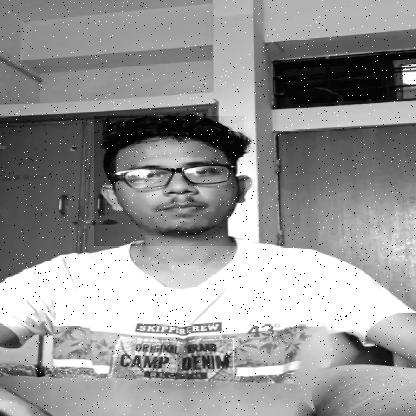Normal: (94, 116, 244, 246)
